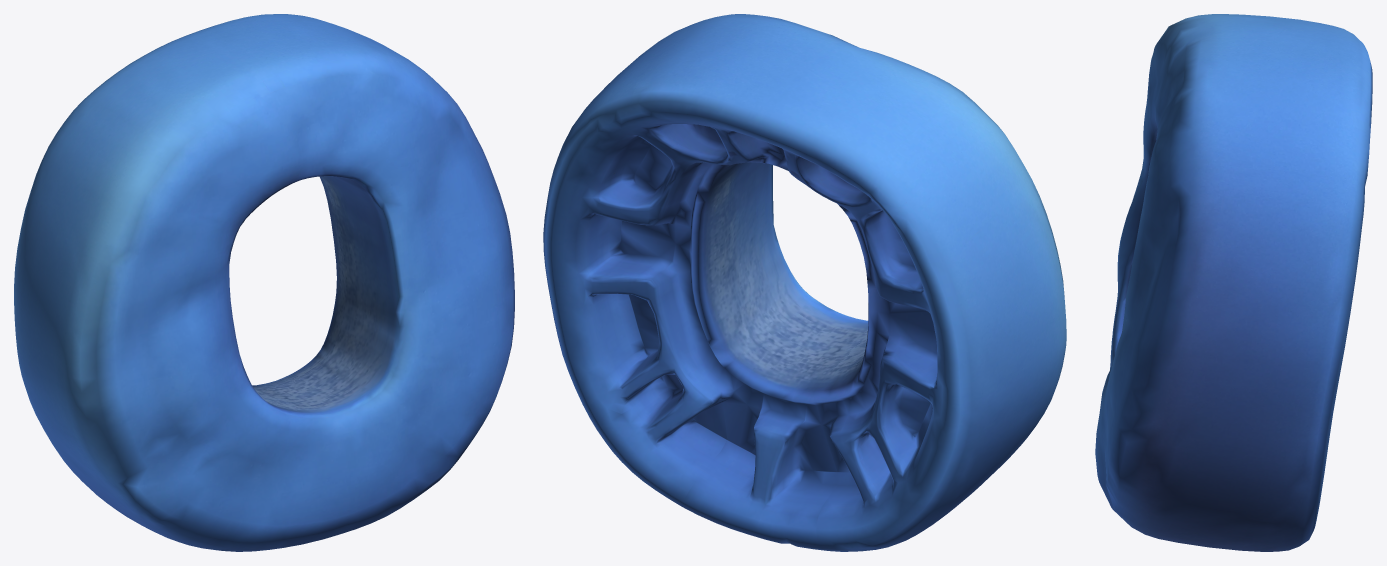
File: Stack 0B - O.glb
3 renders of one model, left to right at view 1: azimuth 30°, elevation 25°; view 2: azimuth 150°, elevation 25°; view 3: azimuth 270°, elevation 25°, orthographic. The views are drawn at different scales.
Parts seen in each view (by area): view 1: Stack 0B - O · mesh; view 2: Stack 0B - O · mesh; view 3: Stack 0B - O · mesh.
Boxes of the visible parts, x1=… form: Stack 0B - O · mesh: x1=14, y1=14, x2=514, y2=551; Stack 0B - O · mesh: x1=543, y1=14, x2=1066, y2=551; Stack 0B - O · mesh: x1=1095, y1=14, x2=1372, y2=551.
Bounding box in the file's own units: 0.9854 × 1 × 0.5259.
Materials: 1 (1 with a texture image).
